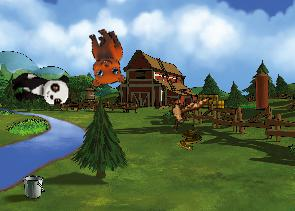bear: (74, 24, 133, 92)
eagle: (157, 80, 212, 138)
panda: (10, 72, 71, 106)
